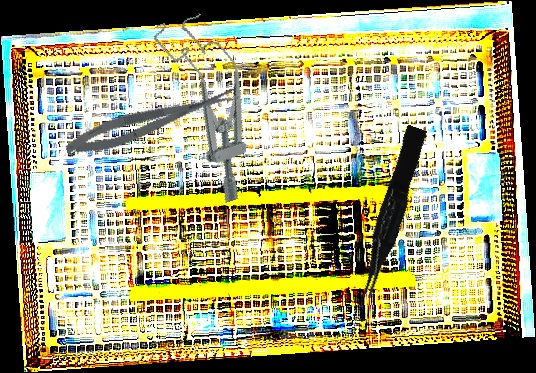Micro Scissor: (61, 81, 242, 163)
Speculum: (150, 5, 278, 208)
Tissue Forceps: (347, 124, 435, 301)
